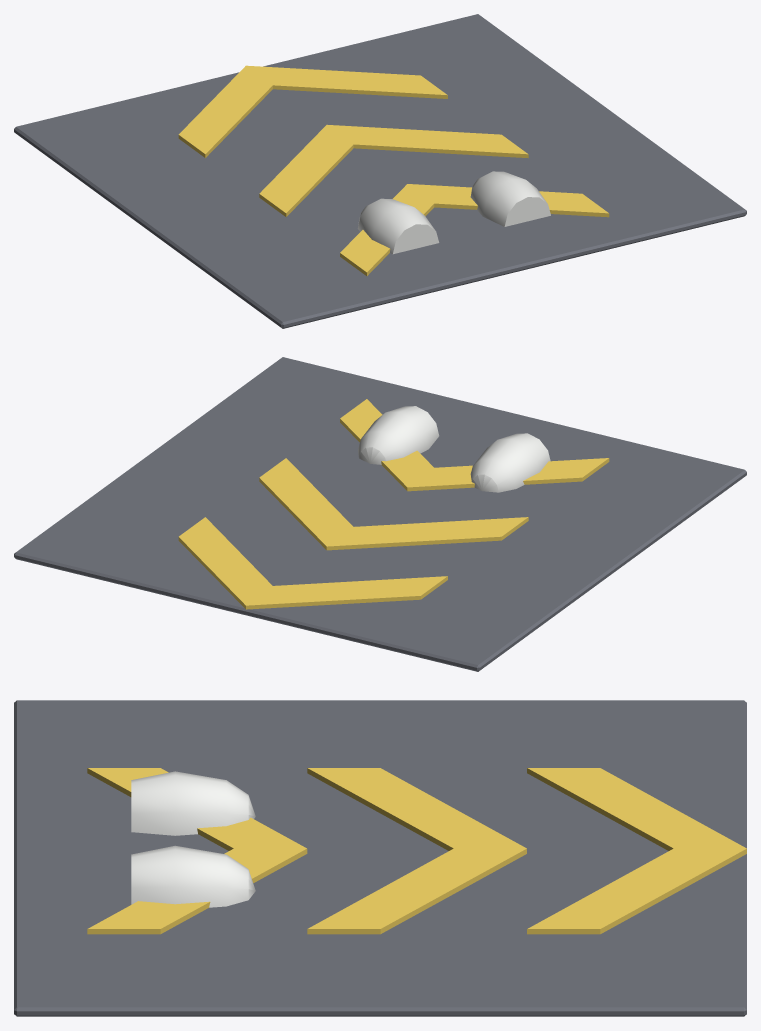
File: laser-tag-arena-and-activity-centre-queue-marking-tile-fe313f8f__34508.glb
3 renders of one model, top to bottom at view 1: azimuth 30°, elevation 25°; view 2: azimuth 150°, elevation 25°; view 3: azimuth 270°, elevation 25°, orthographic. The views are drawn at different scales.
Parts seen in each view (by area): view 1: queue-marking-tile; view 2: queue-marking-tile; view 3: queue-marking-tile.
Boxes of the visible parts, box(x1,y1,x2,y2) form: queue-marking-tile: box(14, 14, 746, 328); queue-marking-tile: box(14, 357, 746, 671); queue-marking-tile: box(14, 700, 746, 1016).
Size of the model in its own units: 1 by 0.124 by 1.
